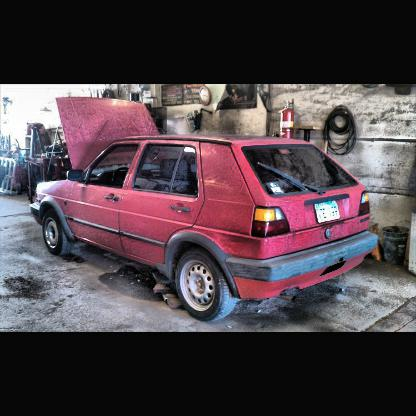Volkswagen Golf Hatchback 1991: (32, 96, 381, 324)
